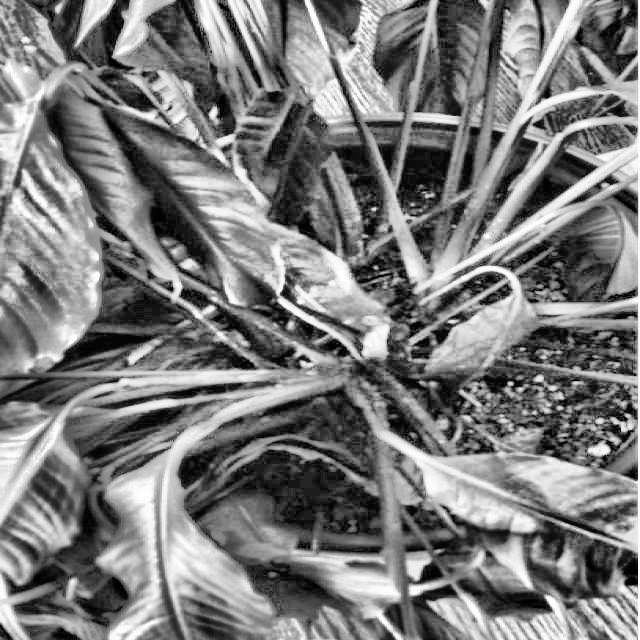plants: (3, 48, 639, 639)
